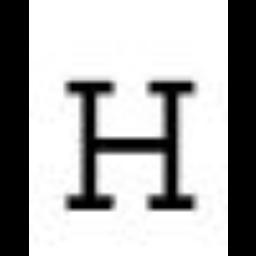h: (34, 68, 218, 228)
